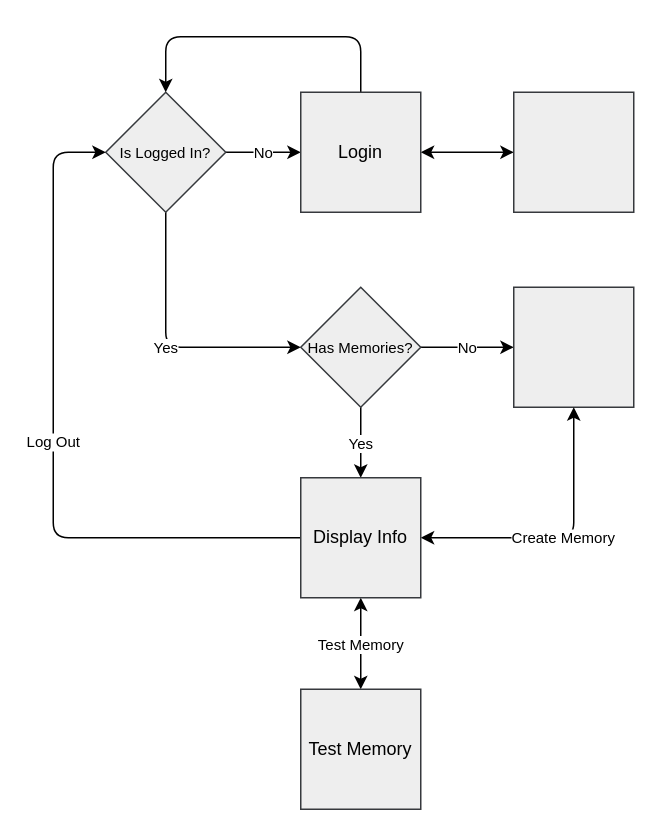
Some shapes in this 660 by 836 pixel diagram are drawn without their labels. The centre of each missing label's shape, as x and y in pixels:
Create a Memory: (x=573, y=346)
Create Account: (x=573, y=151)
